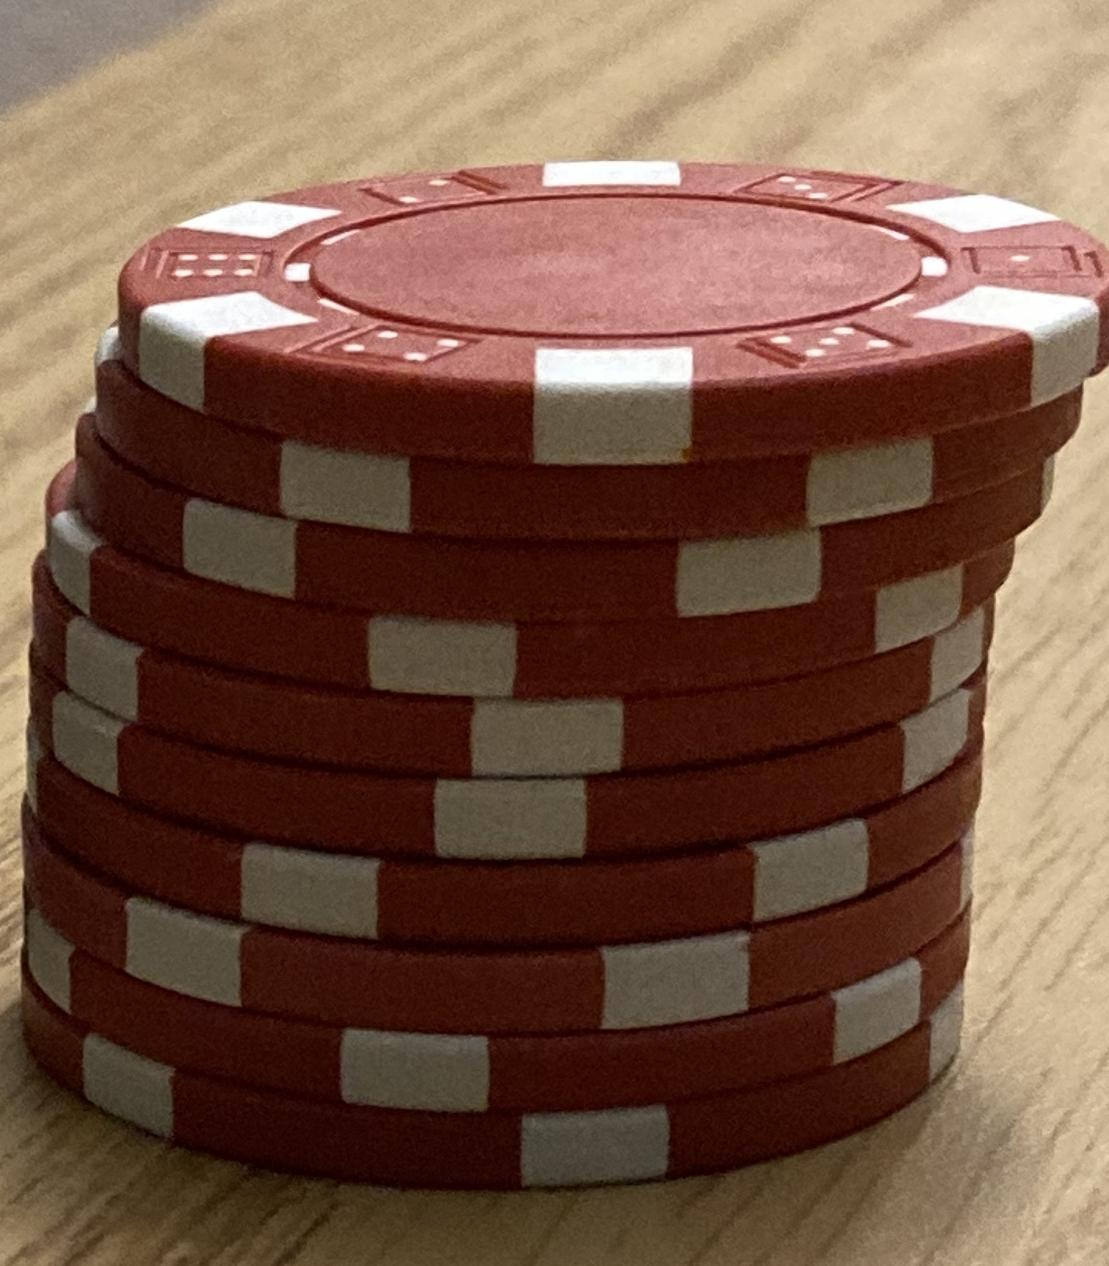Chip: (1, 1, 1109, 1266)
